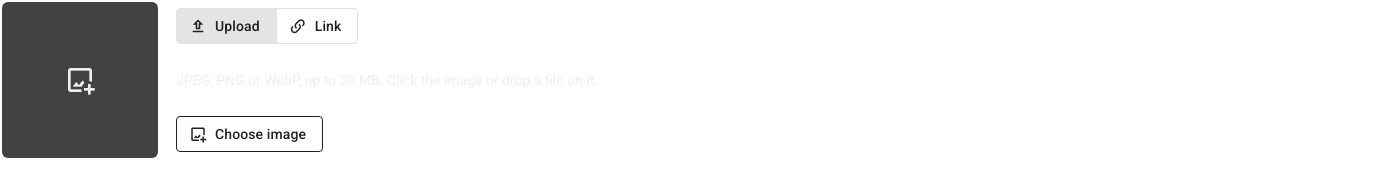
it: ImageInput › link mode › does not save an invalid link
Step 1. Click the button "Link" → click(318, 26), box x1=277 y1=8 x2=358 y2=44
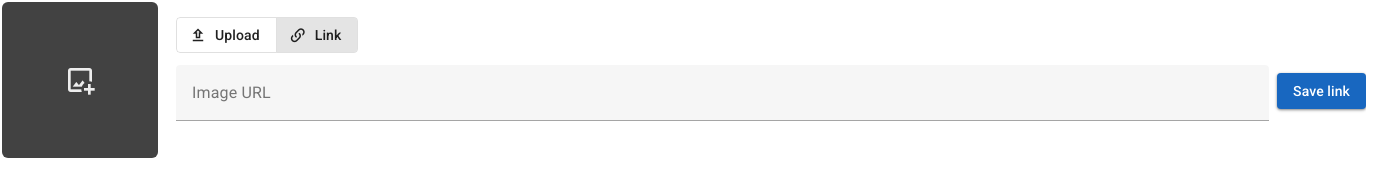
Step 2. Type "not a url" into the field labelled "Image URL" → (722, 93), box x1=176 y1=65 x2=1269 y2=121
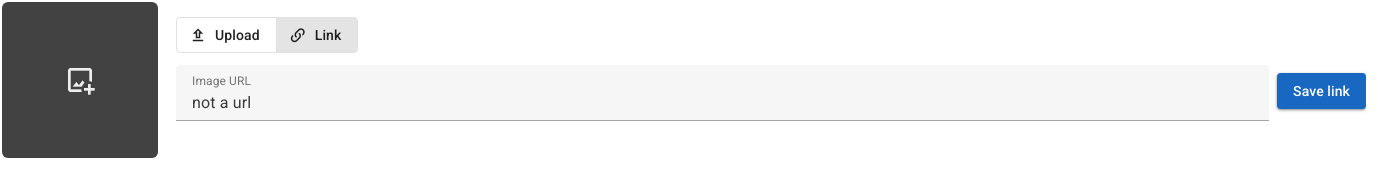
Step 3. Click the button "Save link" → click(1322, 91), box x1=1277 y1=73 x2=1366 y2=109
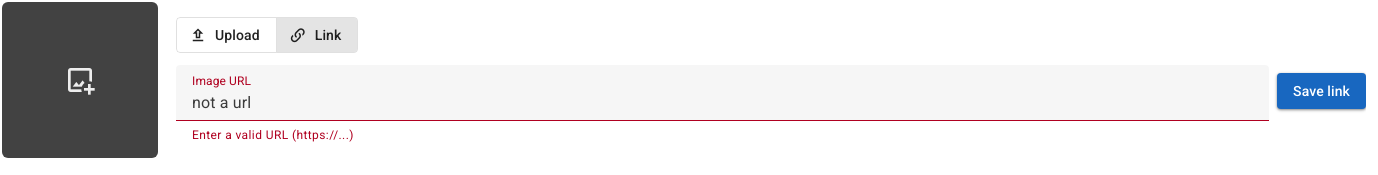
Result: the text "Enter a valid URL" is shown at x1=192 y1=128 x2=354 y2=142
